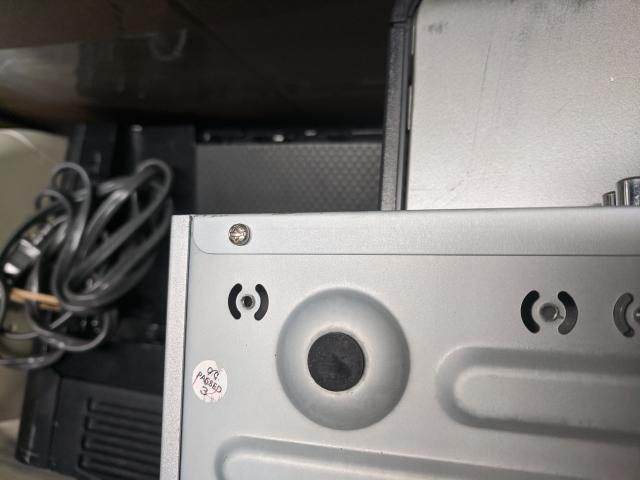CRS: (227, 223, 251, 244)
